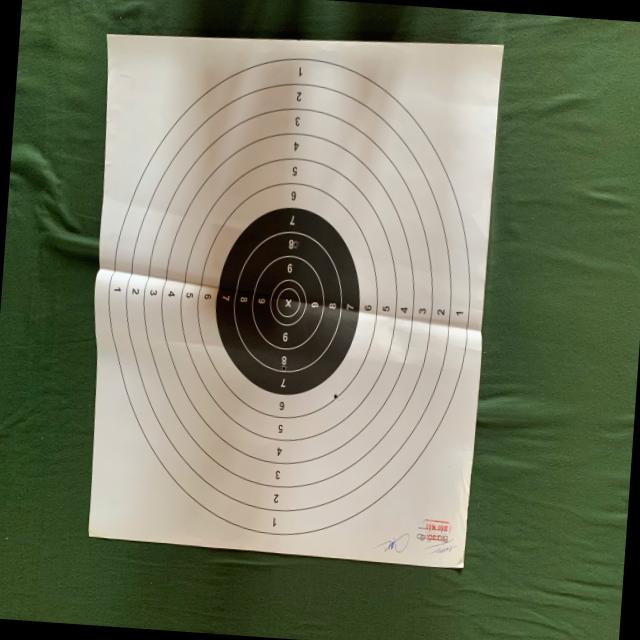bullet: (331, 393, 339, 400), (293, 241, 297, 248), (282, 366, 285, 370)
target: (88, 33, 503, 566)
